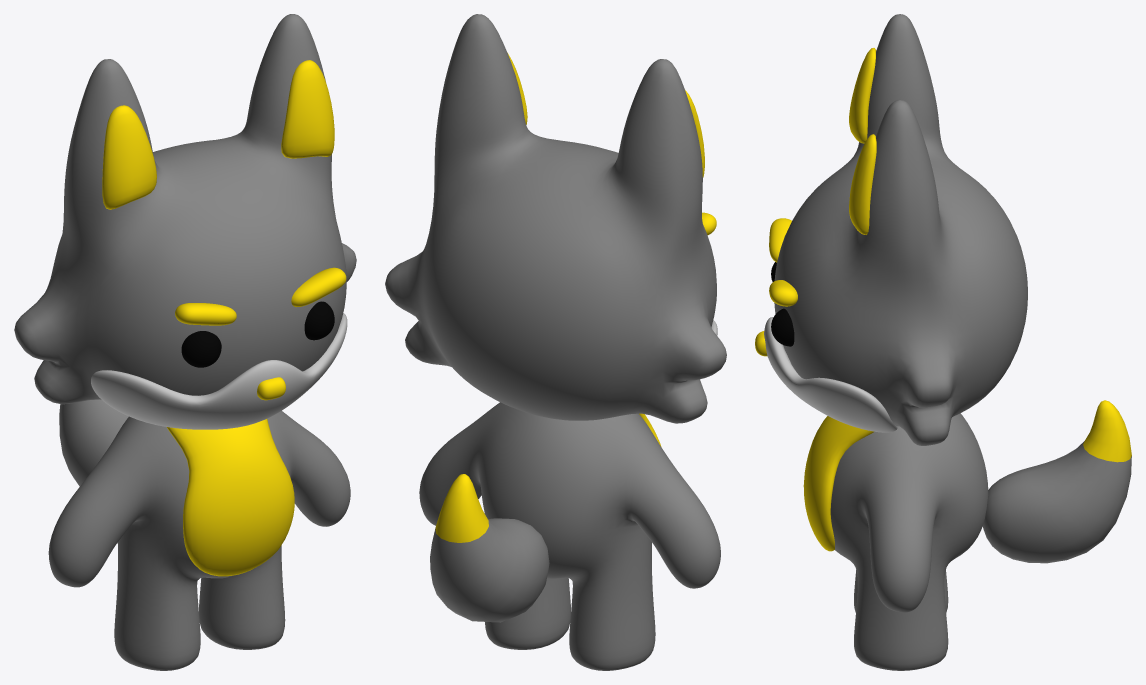
File: WolfYellow.fbx
3 renders of one model, left to right at view 1: azimuth 30°, elevation 25°; view 2: azimuth 150°, elevation 25°; view 3: azimuth 270°, elevation 25°, orthographic. The views are drawn at different scales.
Parts seen in each view (by area): view 1: Cube.039; view 2: Cube.039; view 3: Cube.039.
Boxes of the visible parts, left/top/right/bottom form: Cube.039: left=14, top=14, right=356, bottom=670; Cube.039: left=385, top=14, right=726, bottom=670; Cube.039: left=755, top=14, right=1131, bottom=670.
Size of the model in its own units: 233 by 404 by 238.
